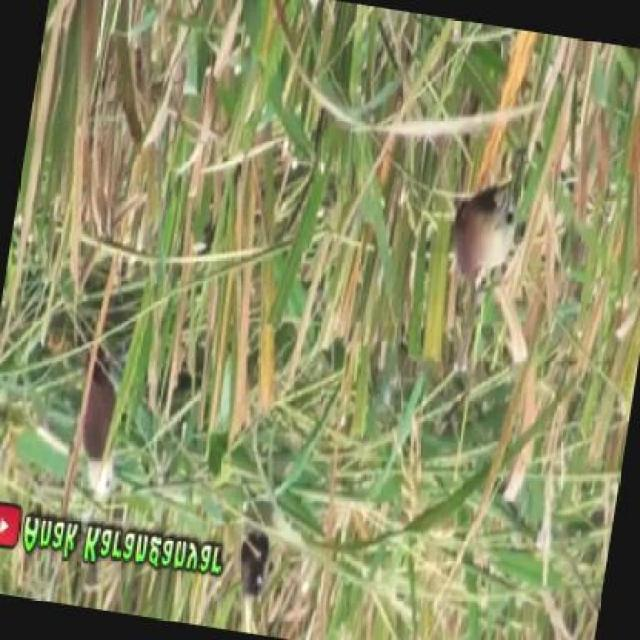Bird: (443, 182, 532, 312), (73, 352, 128, 508)
